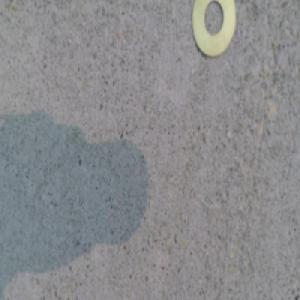Washer: (190, 0, 237, 59)
